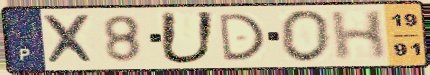8: (101, 13, 146, 64)
D: (216, 11, 268, 63)
H: (328, 8, 389, 63)
O: (277, 8, 333, 64)
U: (157, 10, 219, 67)
X: (38, 13, 100, 67)
